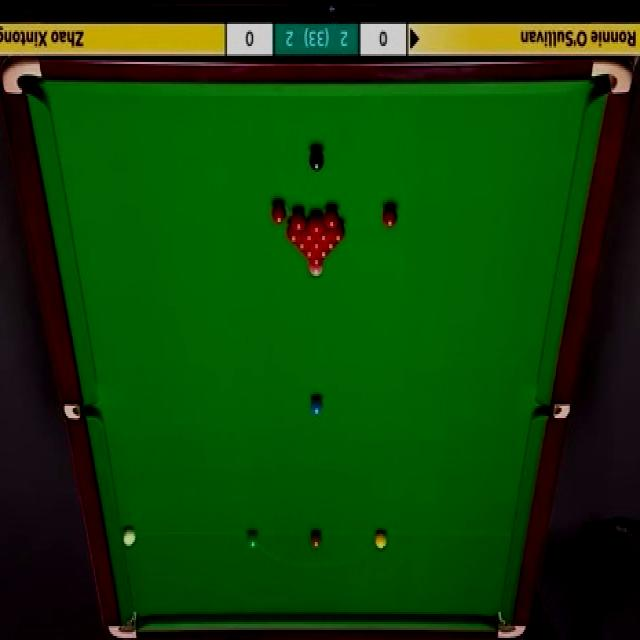black-ball: (309, 147, 325, 174)
blue-ball: (309, 394, 322, 416)
brown-ball: (310, 530, 322, 547)
green-ball: (247, 530, 258, 550)
pink-ball: (308, 264, 324, 281)
red-ball: (382, 204, 401, 228), (270, 197, 286, 225), (325, 205, 341, 228), (309, 211, 324, 235), (285, 223, 302, 243), (291, 208, 306, 230), (330, 222, 345, 243), (302, 224, 315, 242), (316, 228, 331, 243), (300, 248, 318, 258), (293, 240, 309, 251), (308, 258, 325, 268), (308, 240, 324, 250), (317, 249, 333, 258), (324, 239, 337, 250)
white-ball: (121, 524, 137, 550)
yellow-ball: (373, 530, 388, 551)
